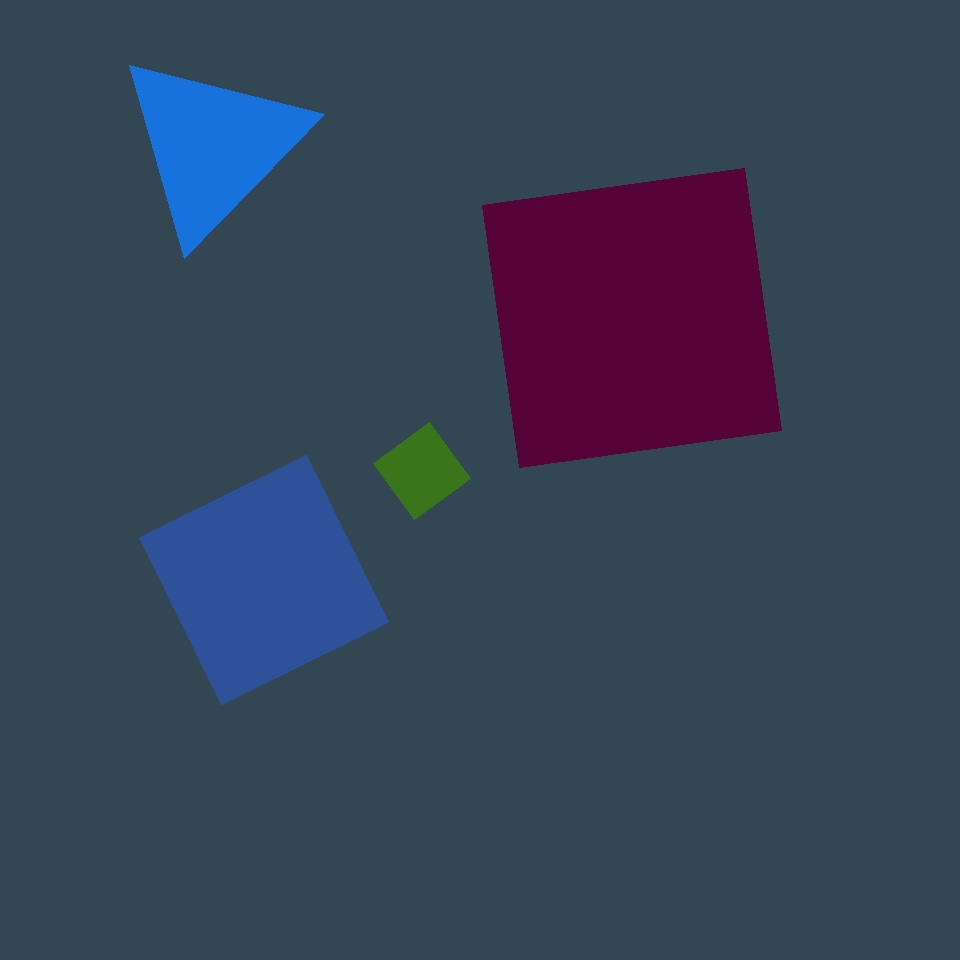circle: (523, 576, 832, 895), (115, 49, 310, 242)
square: (482, 168, 782, 467), (140, 455, 389, 704), (187, 533, 431, 777), (374, 422, 470, 520)
